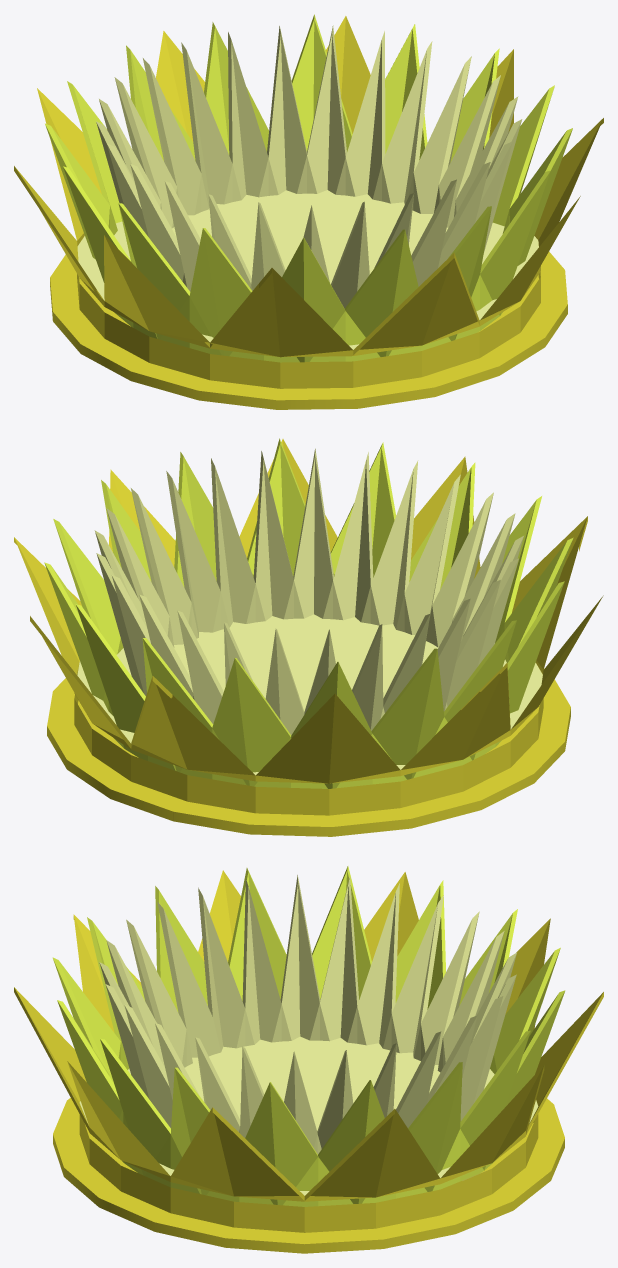
The model's file is portal_abrir_000024.obj.
3 renders of one model, top to bottom at view 1: azimuth 30°, elevation 25°; view 2: azimuth 150°, elevation 25°; view 3: azimuth 270°, elevation 25°, orthographic. The views are drawn at different scales.
Parts seen in each view (by area): view 1: pCylinder1, Cylinder.001, Cylinder; view 2: pCylinder1, Cylinder.001, Cylinder; view 3: pCylinder1, Cylinder.001, Cylinder.
Boxes of the visible parts, x1=… form: pCylinder1: x1=14, y1=16, x2=603, y2=409; Cylinder.001: x1=96, y1=25, x2=522, y2=308; Cylinder: x1=45, y1=14, x2=572, y2=362; pCylinder1: x1=14, y1=439, x2=603, y2=836; Cylinder.001: x1=94, y1=448, x2=523, y2=735; Cylinder: x1=44, y1=438, x2=573, y2=788; pCylinder1: x1=14, y1=870, x2=603, y2=1253; Cylinder.001: x1=99, y1=875, x2=516, y2=1154; Cylinder: x1=52, y1=866, x2=565, y2=1206.
Bounding box in the file's own units: 4.37 × 1.56 × 4.57.
4 materials, 4 textured.
